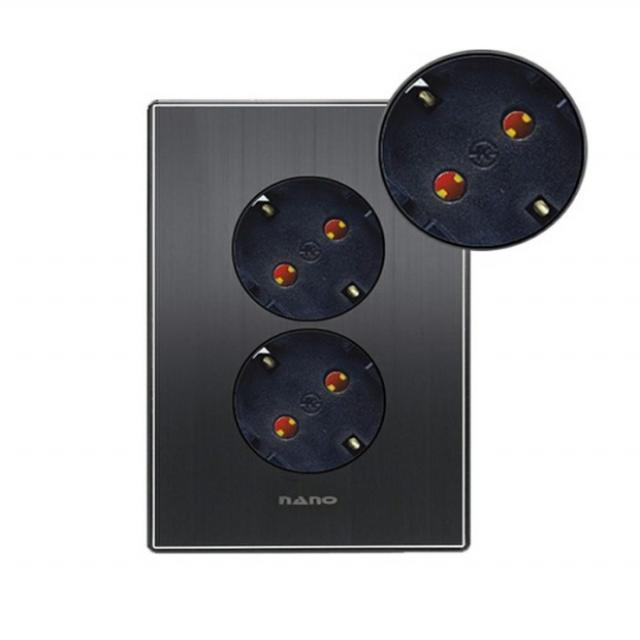typeb: (132, 86, 387, 581), (374, 35, 628, 274)
